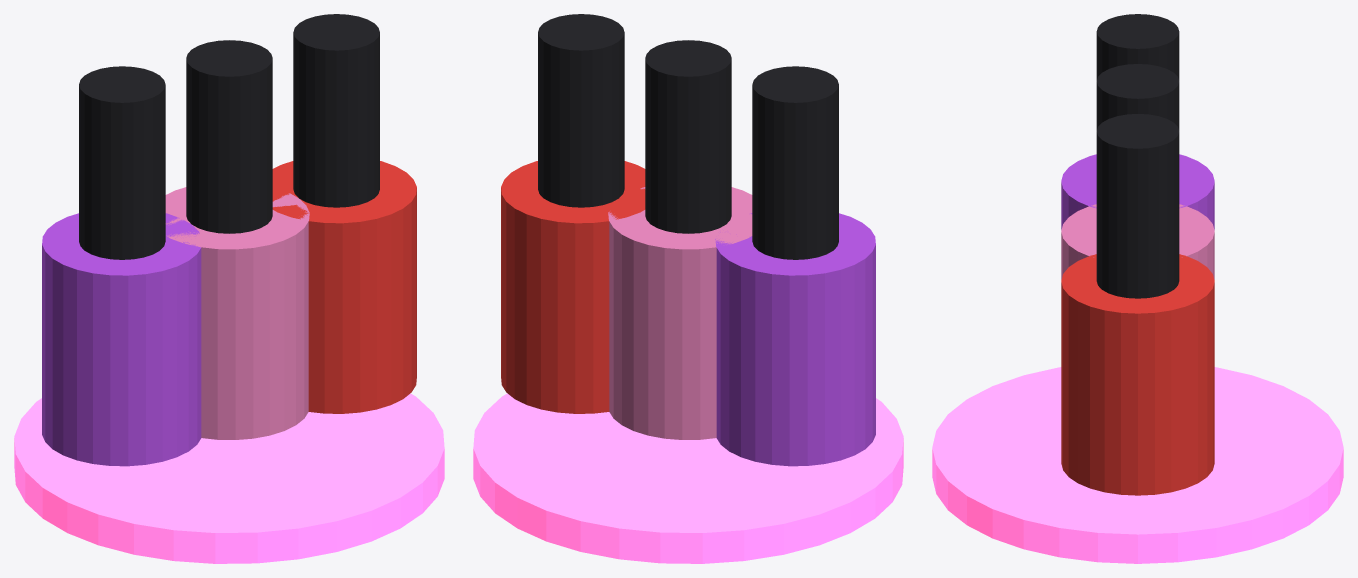
The model's file is beauty_nail_set.glb.
The picture shows the model from 3 angles, left to right: view 1: azimuth 30°, elevation 25°; view 2: azimuth 150°, elevation 25°; view 3: azimuth 270°, elevation 25°; orthographic projection. The views are drawn at different scales.
Parts seen in each view (by area): view 1: 03_19_Popular_Beauty_Nail_Set_ROOT_base, 03_19_Popular_Beauty_Nail_Set_part_05, 03_19_Popular_Beauty_Nail_Set_part_03, 03_19_Popular_Beauty_Nail_Set_part_01, 03_19_Popular_Beauty_Nail_Set_part_02, 03_19_Popular_Beauty_Nail_Set_part_06, 03_19_Popular_Beauty_Nail_Set_part_04; view 2: 03_19_Popular_Beauty_Nail_Set_ROOT_base, 03_19_Popular_Beauty_Nail_Set_part_05, 03_19_Popular_Beauty_Nail_Set_part_03, 03_19_Popular_Beauty_Nail_Set_part_01, 03_19_Popular_Beauty_Nail_Set_part_02, 03_19_Popular_Beauty_Nail_Set_part_06, 03_19_Popular_Beauty_Nail_Set_part_04; view 3: 03_19_Popular_Beauty_Nail_Set_ROOT_base, 03_19_Popular_Beauty_Nail_Set_part_03, 03_19_Popular_Beauty_Nail_Set_part_04, 03_19_Popular_Beauty_Nail_Set_part_06, 03_19_Popular_Beauty_Nail_Set_part_02, 03_19_Popular_Beauty_Nail_Set_part_05, 03_19_Popular_Beauty_Nail_Set_part_01.
Part boxes in pixels (x1,y1,x2,y2): 03_19_Popular_Beauty_Nail_Set_ROOT_base: [14, 393, 444, 563]; 03_19_Popular_Beauty_Nail_Set_part_05: [42, 213, 201, 466]; 03_19_Popular_Beauty_Nail_Set_part_03: [272, 161, 416, 413]; 03_19_Popular_Beauty_Nail_Set_part_01: [165, 187, 309, 439]; 03_19_Popular_Beauty_Nail_Set_part_02: [186, 40, 272, 233]; 03_19_Popular_Beauty_Nail_Set_part_06: [79, 66, 165, 259]; 03_19_Popular_Beauty_Nail_Set_part_04: [293, 14, 379, 207]; 03_19_Popular_Beauty_Nail_Set_ROOT_base: [473, 393, 903, 563]; 03_19_Popular_Beauty_Nail_Set_part_05: [715, 213, 875, 466]; 03_19_Popular_Beauty_Nail_Set_part_03: [501, 161, 645, 413]; 03_19_Popular_Beauty_Nail_Set_part_01: [608, 187, 752, 439]; 03_19_Popular_Beauty_Nail_Set_part_02: [645, 40, 731, 233]; 03_19_Popular_Beauty_Nail_Set_part_06: [752, 66, 838, 259]; 03_19_Popular_Beauty_Nail_Set_part_04: [538, 14, 624, 207]; 03_19_Popular_Beauty_Nail_Set_ROOT_base: [932, 367, 1343, 563]; 03_19_Popular_Beauty_Nail_Set_part_03: [1061, 254, 1214, 495]; 03_19_Popular_Beauty_Nail_Set_part_04: [1096, 114, 1179, 298]; 03_19_Popular_Beauty_Nail_Set_part_06: [1096, 14, 1179, 80]; 03_19_Popular_Beauty_Nail_Set_part_02: [1096, 64, 1179, 130]; 03_19_Popular_Beauty_Nail_Set_part_05: [1061, 154, 1214, 229]; 03_19_Popular_Beauty_Nail_Set_part_01: [1061, 204, 1214, 279].
Size of the model in its own units: 0.76 by 0.8064 by 0.76.
